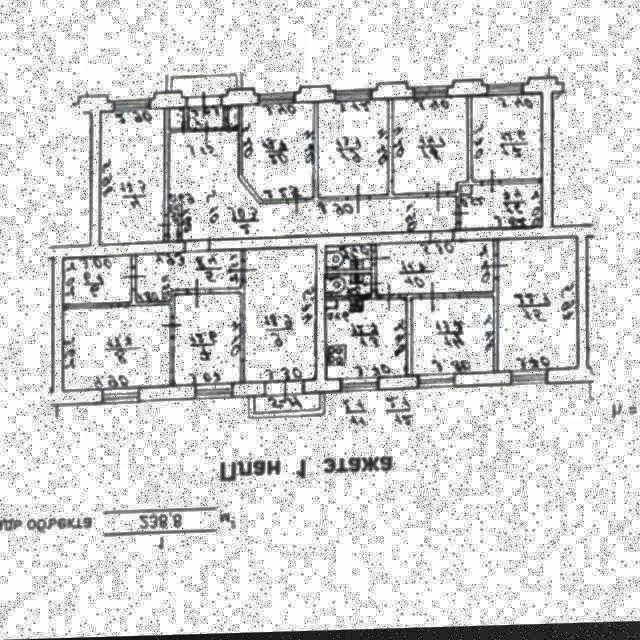room: (166, 125, 457, 241), (498, 242, 575, 374), (245, 250, 314, 385), (62, 308, 171, 391), (100, 110, 163, 246), (393, 100, 466, 197), (242, 105, 314, 202), (319, 102, 388, 200), (411, 300, 495, 378), (325, 301, 407, 380), (375, 245, 494, 297), (174, 294, 238, 387), (473, 99, 540, 184), (136, 252, 241, 302), (460, 188, 539, 233), (64, 257, 133, 303), (173, 77, 236, 98), (254, 395, 319, 415), (325, 248, 372, 272), (325, 275, 371, 298), (189, 109, 221, 129)
